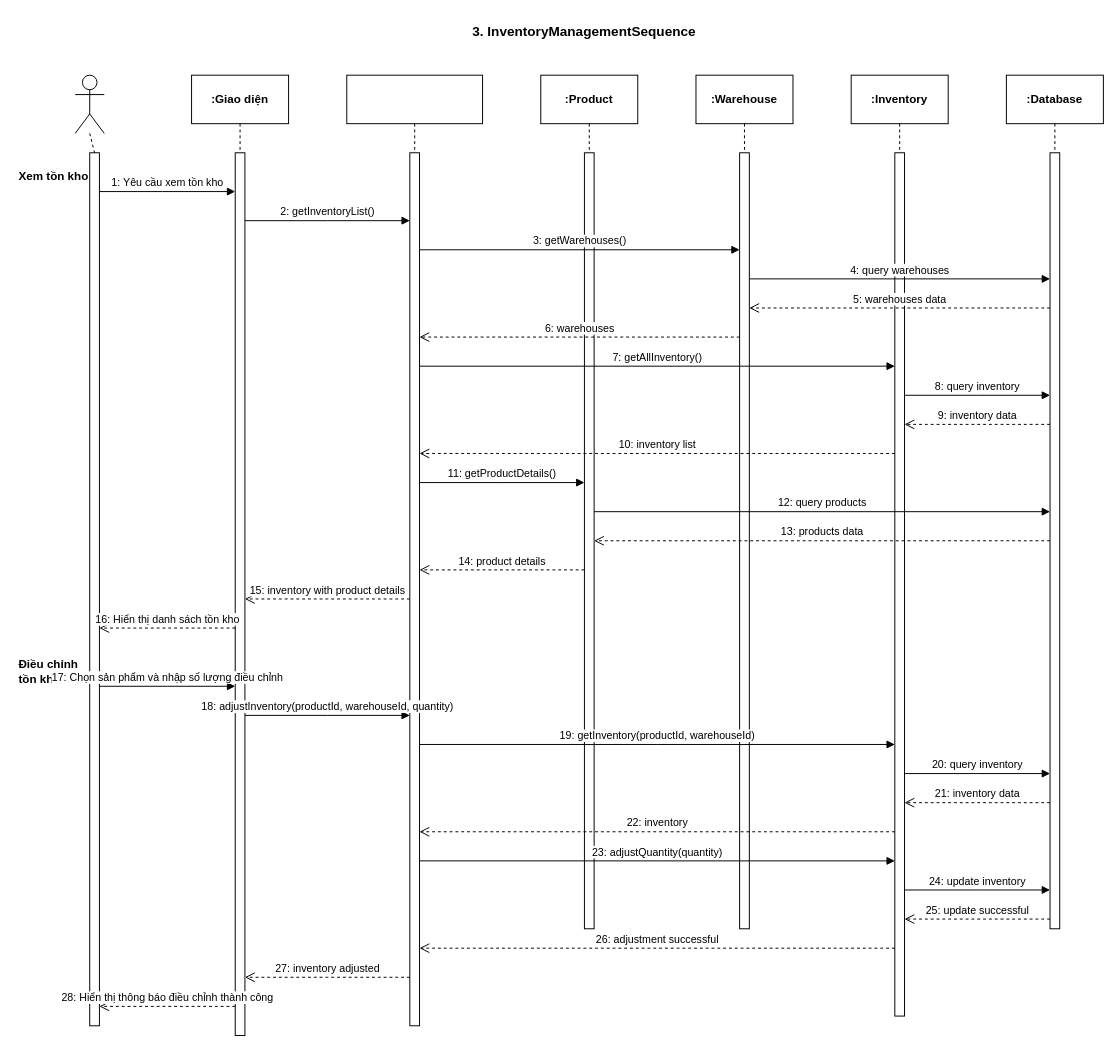
Some shapes in this 1120 by 1052 pixel diagram are drawn without their labels. Each missing label, with the centre of its shape:
":InventoryController" goes at point (414, 99).
"Người dùng" goes at point (89, 103).
